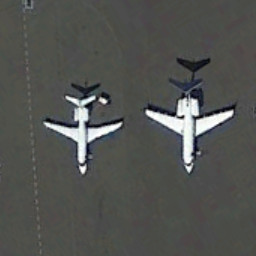Airplane: (140, 71, 242, 182), (38, 86, 128, 180)
